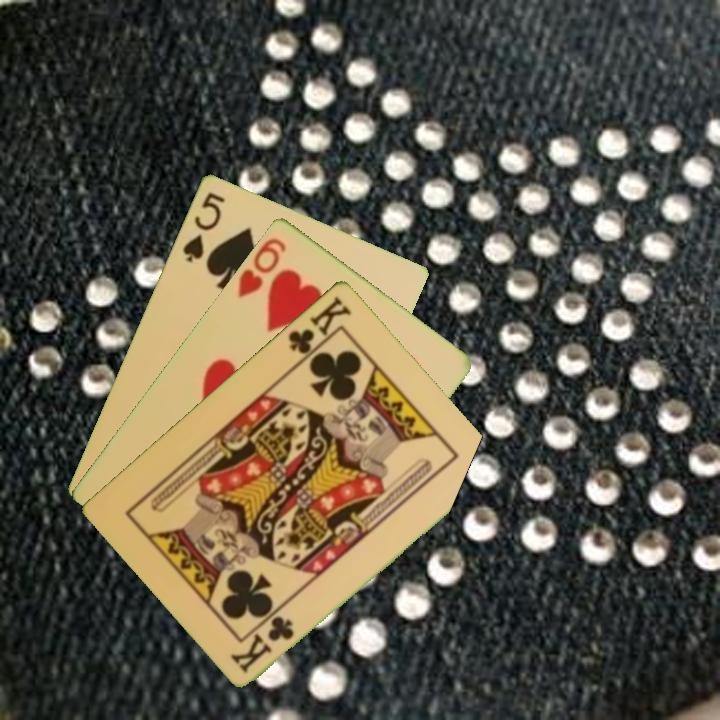5s: (178, 188, 227, 265)
6h: (234, 233, 289, 301)
Kc: (284, 292, 354, 365), (228, 611, 298, 676)
